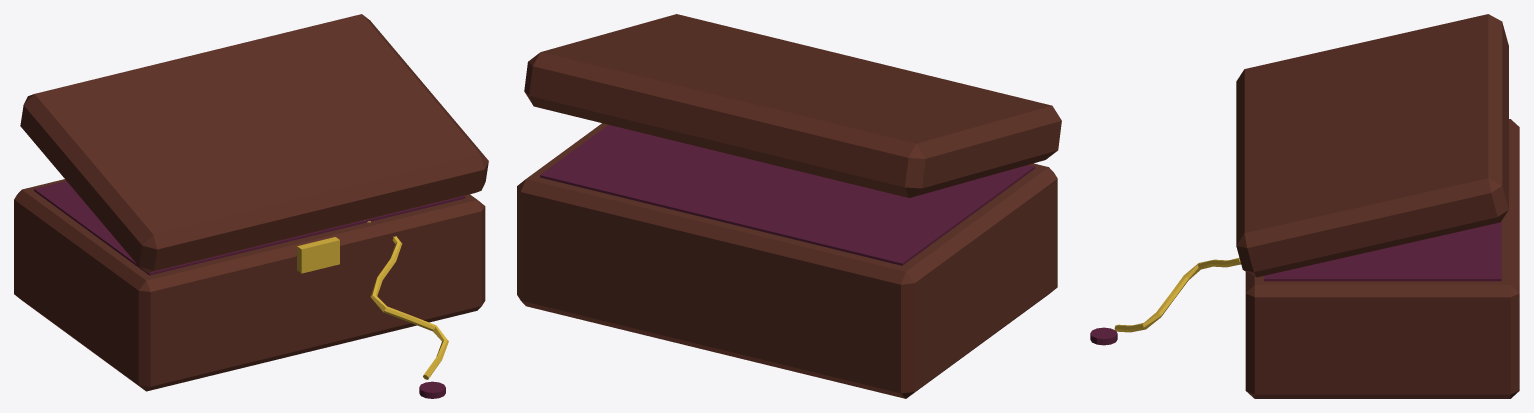
Rendered from jewelry_box.glb.
The picture shows the model from 3 angles, left to right: view 1: azimuth 30°, elevation 25°; view 2: azimuth 150°, elevation 25°; view 3: azimuth 270°, elevation 25°; orthographic projection. The views are drawn at different scales.
Visible parts, largest first — view 1: jewelry_box; view 2: jewelry_box; view 3: jewelry_box.
Boxes of the visible parts, bbox=[...] form: jewelry_box: bbox=[14, 14, 488, 398]; jewelry_box: bbox=[517, 14, 1061, 398]; jewelry_box: bbox=[1090, 14, 1519, 398].
Size of the model in its own units: 0.134 by 0.0791 by 0.14.
